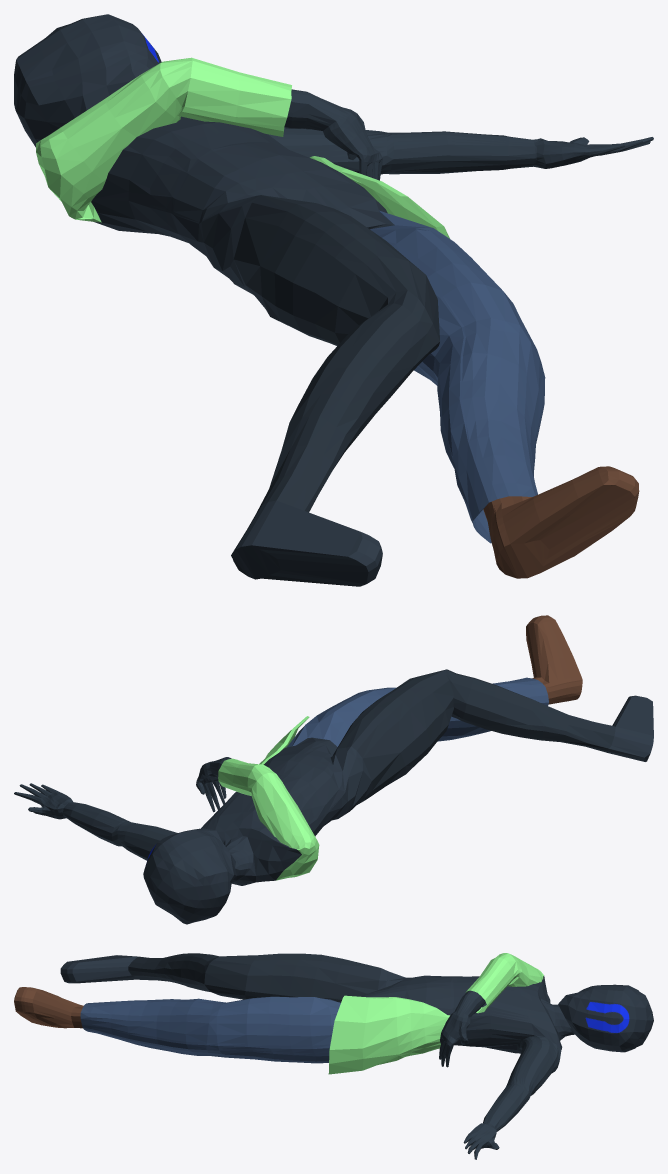
File: Mar_Die_000020.obj
The picture shows the model from 3 angles, top to bottom: view 1: azimuth 30°, elevation 25°; view 2: azimuth 150°, elevation 25°; view 3: azimuth 270°, elevation 25°; orthographic projection. The views are drawn at different scales.
Parts seen in each view (by area): view 1: Cube.000_Cube.001; view 2: Cube.000_Cube.001; view 3: Cube.000_Cube.001.
Boxes of the visible parts, left/top/right/bottom form: Cube.000_Cube.001: left=14, top=14, right=653, bottom=586; Cube.000_Cube.001: left=14, top=615, right=653, bottom=924; Cube.000_Cube.001: left=14, top=953, right=653, bottom=1159.
Size of the model in its own units: 2.82 by 0.6649 by 3.97.
